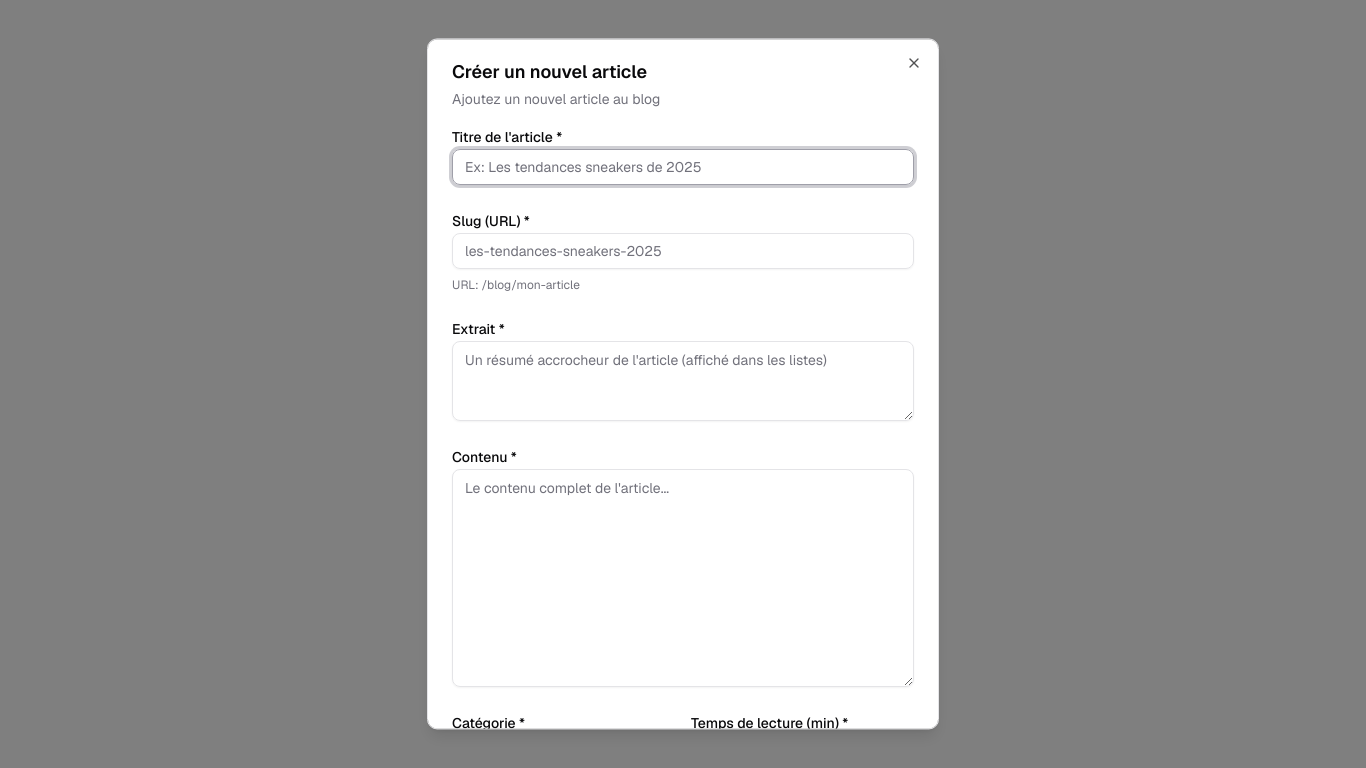
BlogForm › Create Mode › auto-generates slug from title
In the field labelled "Titre de l'article *": (683, 167) [452, 149, 914, 185], type "Mon Super Article de Test"
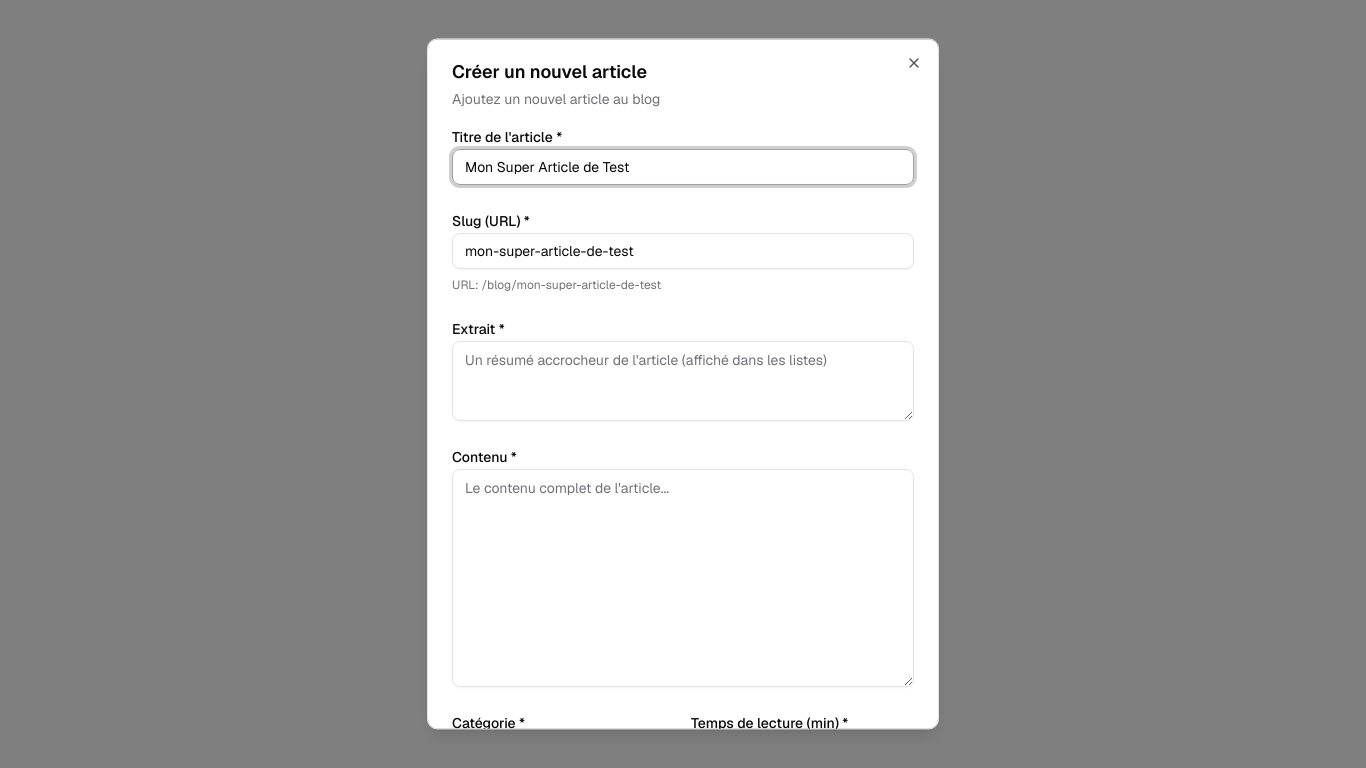
Check: the field labelled "Slug (URL) *" holds "mon-super-article-de-test", box [452, 233, 914, 269]
